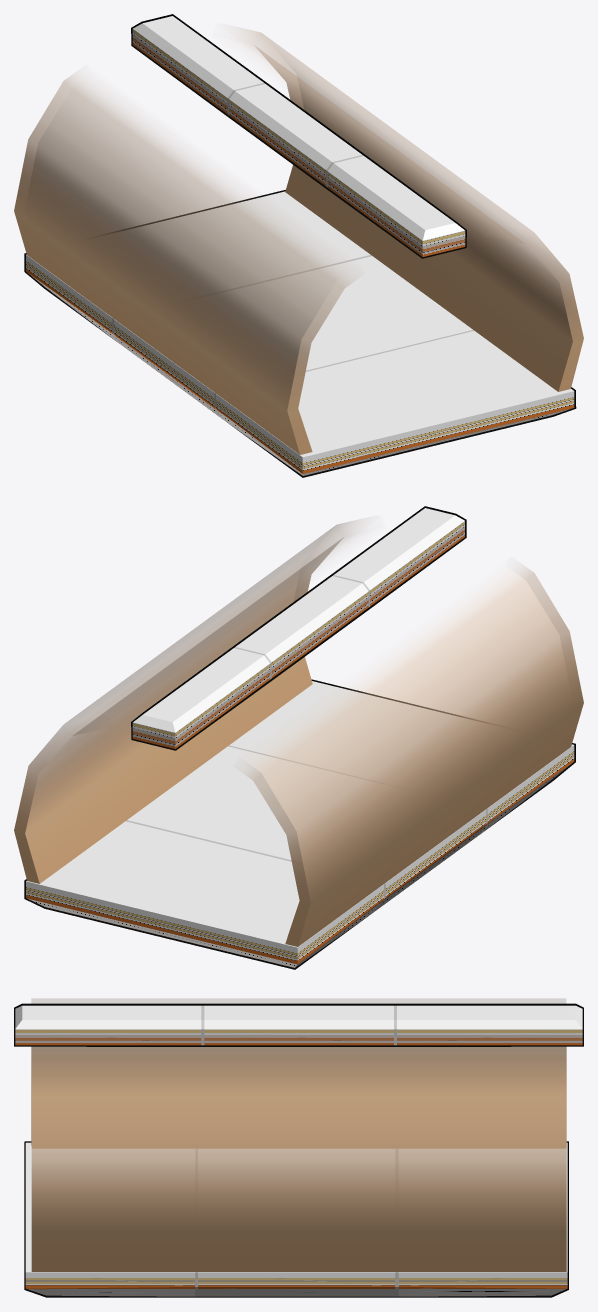
Rendered from sci-fi-bridge.glb.
The picture shows the model from 3 angles, top to bottom: view 1: azimuth 30°, elevation 25°; view 2: azimuth 150°, elevation 25°; view 3: azimuth 270°, elevation 25°; orthographic projection. The views are drawn at different scales.
Parts seen in each view (by area): view 1: SciFi_Bridge; view 2: SciFi_Bridge; view 3: SciFi_Bridge.
Boxes of the visible parts, bbox=[...] form: SciFi_Bridge: bbox=[14, 14, 583, 477]; SciFi_Bridge: bbox=[14, 506, 583, 969]; SciFi_Bridge: bbox=[14, 998, 583, 1297].
Size of the model in its own units: 6.01 by 4.48 by 10.21.
4 materials, 3 textured.
